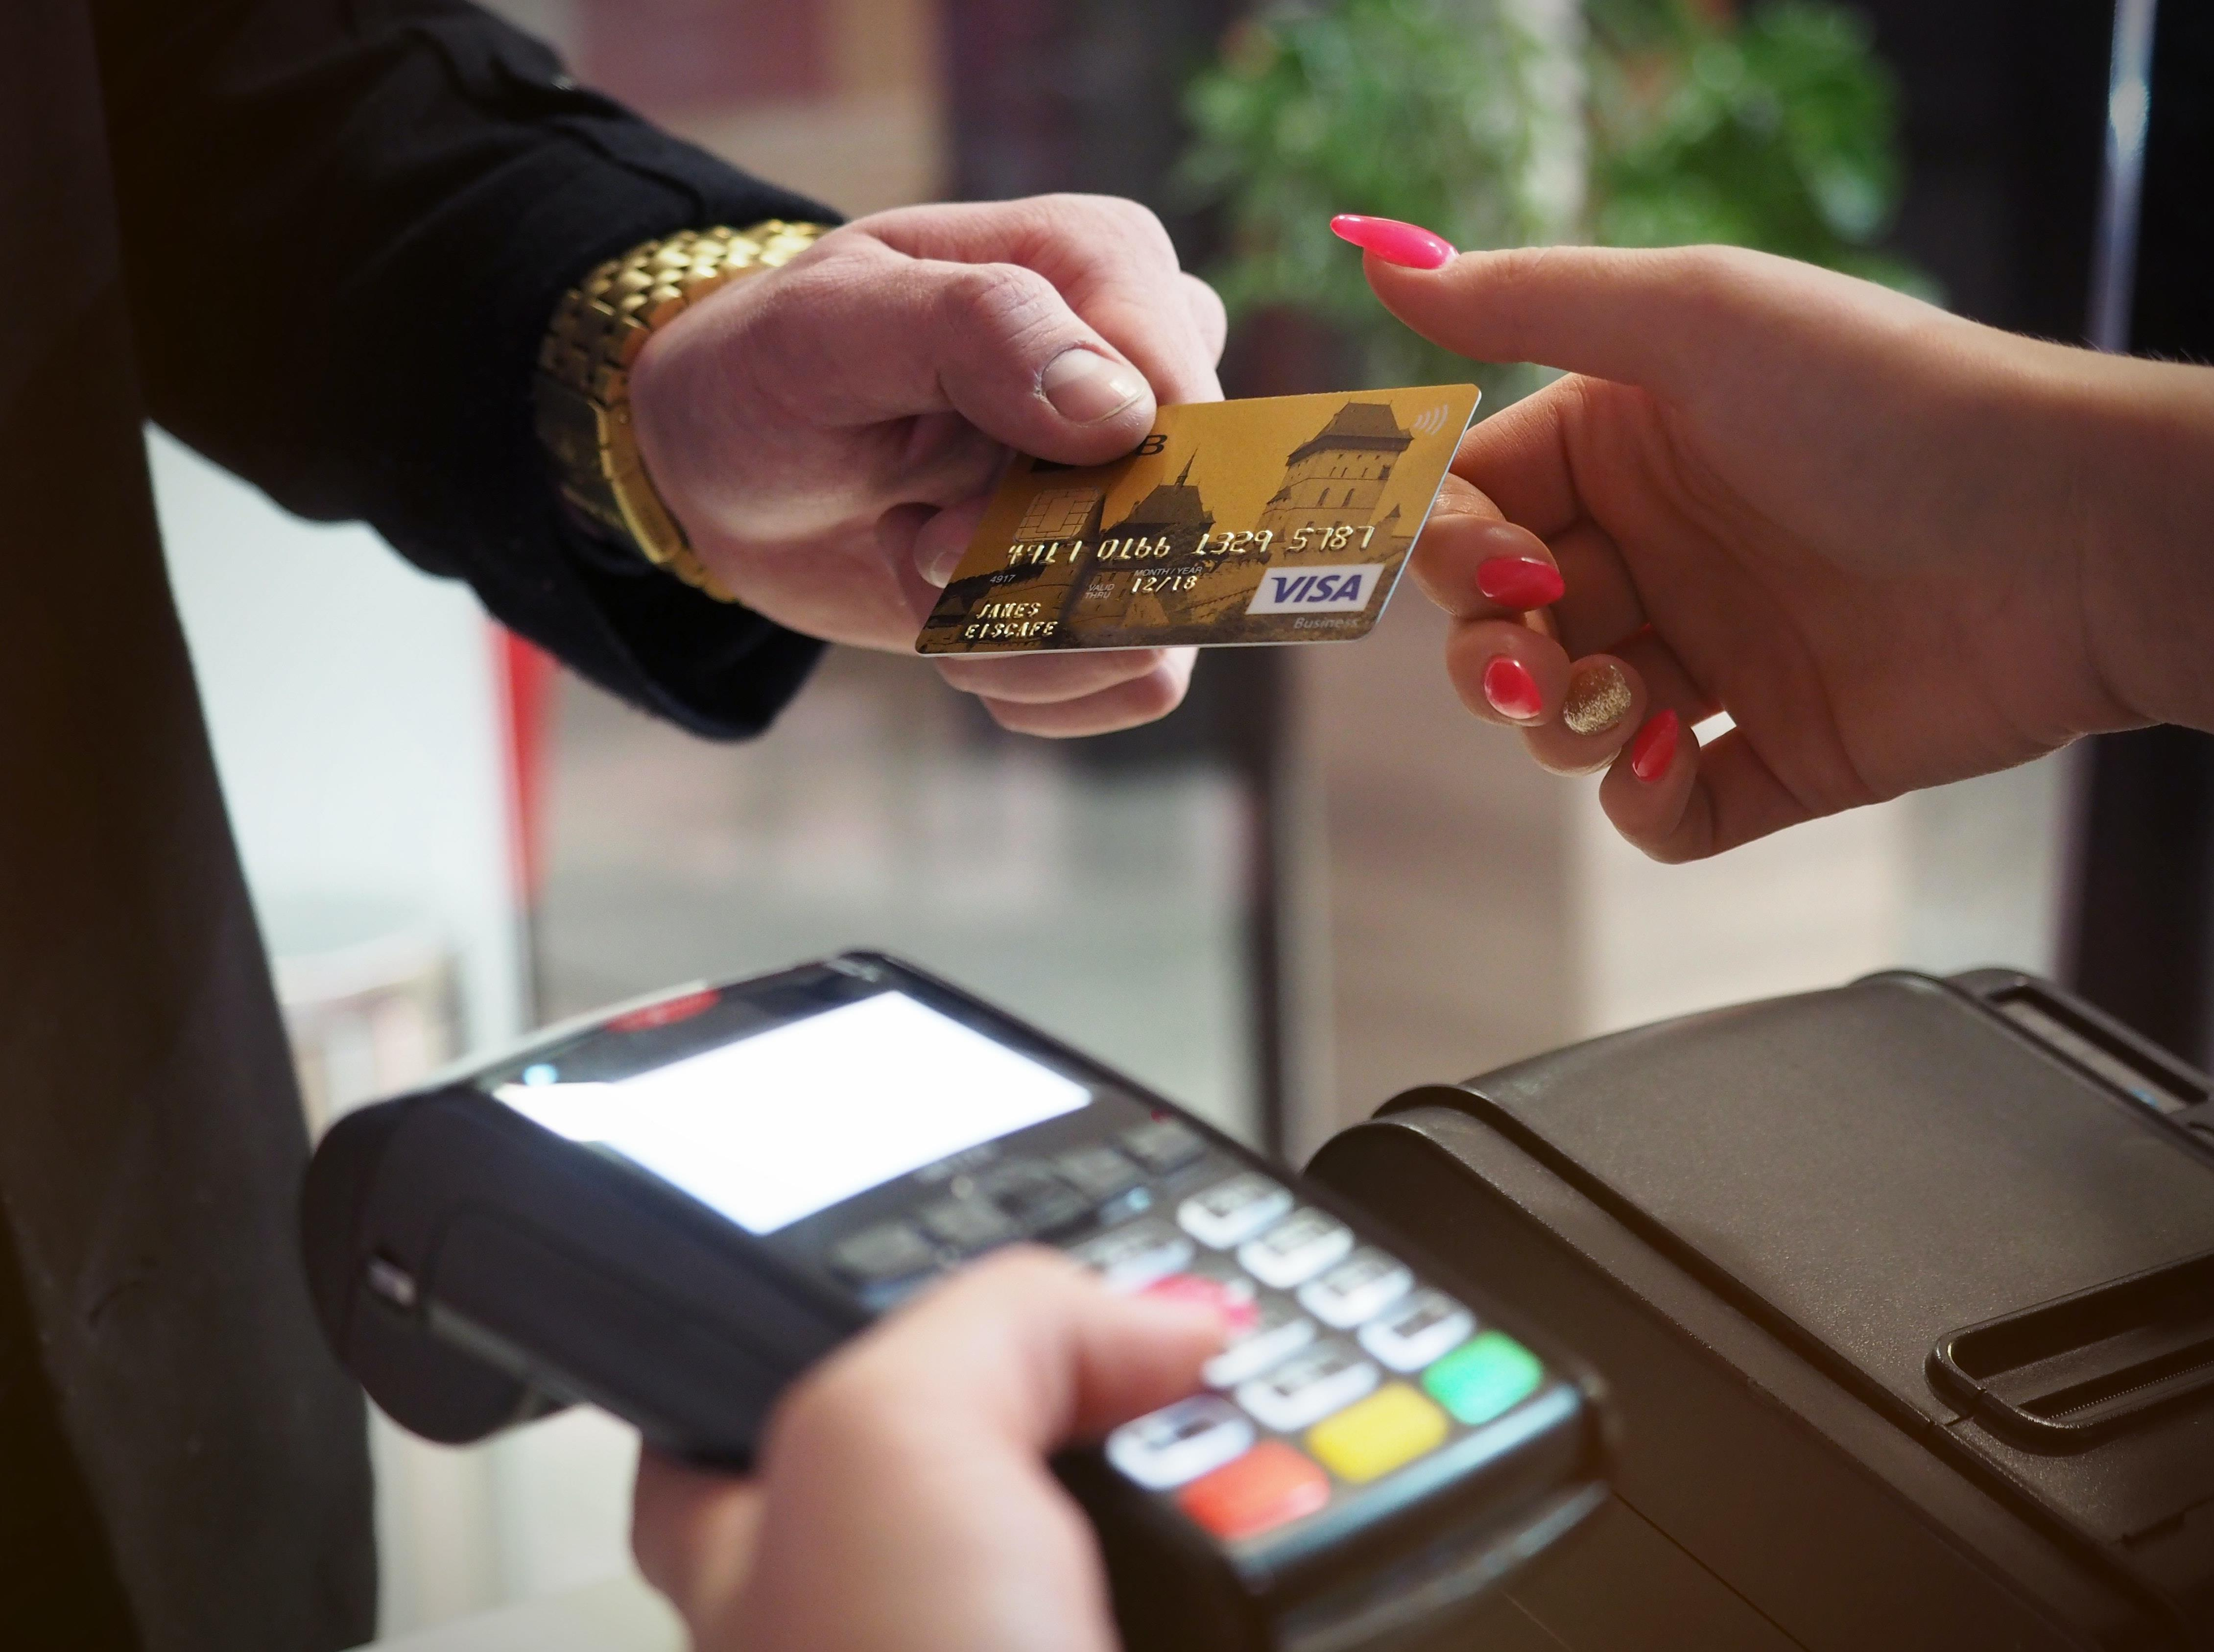card: (901, 382, 1487, 666)
